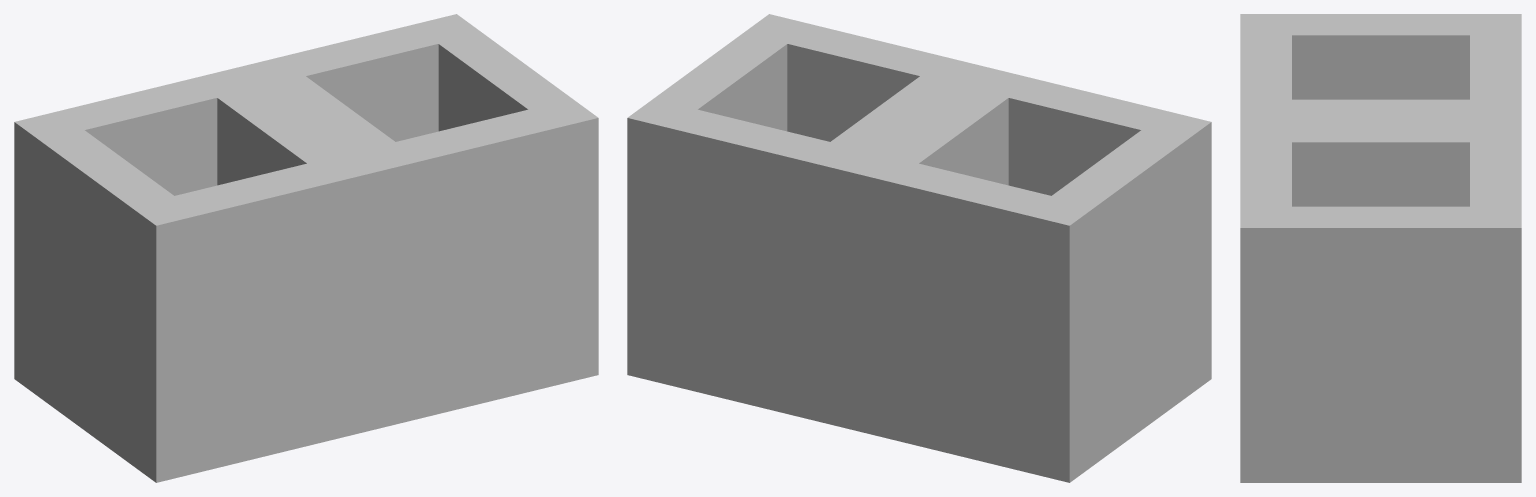
The model's file is Concrete_Block_01.fbx.
3 renders of one model, left to right at view 1: azimuth 30°, elevation 25°; view 2: azimuth 150°, elevation 25°; view 3: azimuth 270°, elevation 25°, orthographic.
Parts seen in each view (by area): view 1: Concrete_Block_01; view 2: Concrete_Block_01; view 3: Concrete_Block_01.
Boxes of the visible parts, x1=… form: Concrete_Block_01: x1=14, y1=14, x2=598, y2=482; Concrete_Block_01: x1=627, y1=14, x2=1211, y2=482; Concrete_Block_01: x1=1240, y1=14, x2=1521, y2=482.
Bounding box in the file's own units: 43.2 × 24 × 24.
